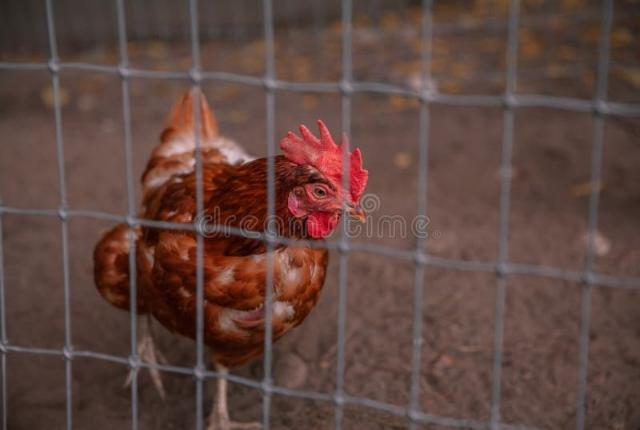Chicken: (93, 84, 369, 430)
